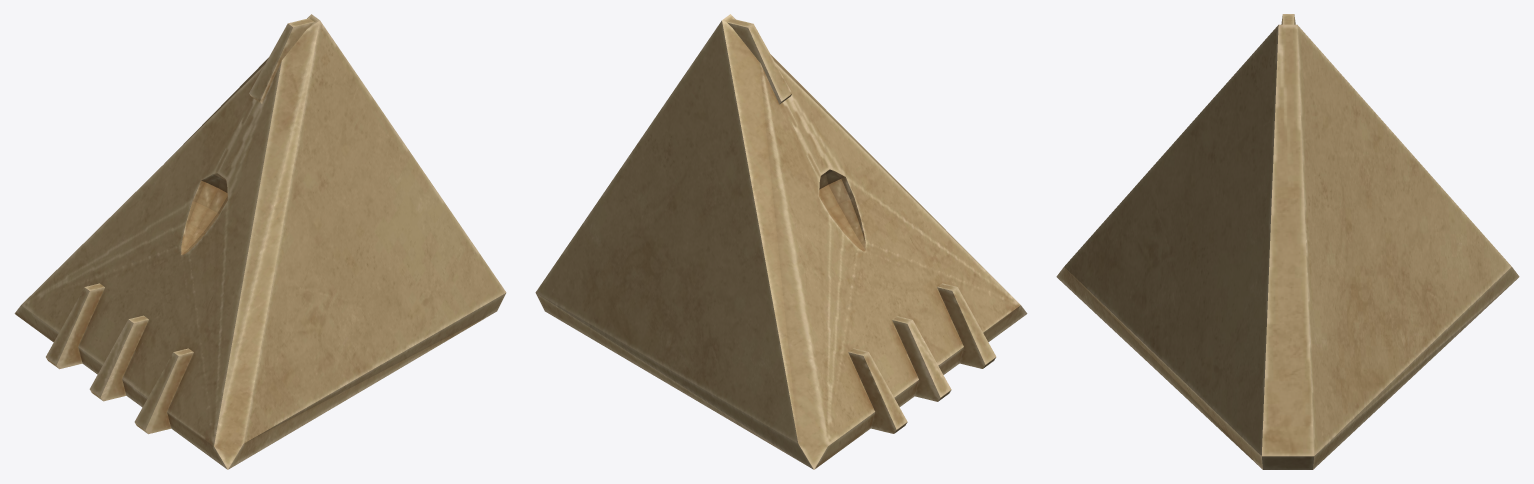
File: Yellow gem ruin.FBX
The picture shows the model from 3 angles, left to right: view 1: azimuth 30°, elevation 25°; view 2: azimuth 150°, elevation 25°; view 3: azimuth 270°, elevation 25°; orthographic projection. The views are drawn at different scales.
Visible parts, largest first — view 1: Pyramid yellow; view 2: Pyramid yellow; view 3: Pyramid yellow.
Part boxes in pixels (bbox=[...]): Pyramid yellow: bbox=[14, 14, 506, 469]; Pyramid yellow: bbox=[535, 14, 1027, 469]; Pyramid yellow: bbox=[1056, 14, 1519, 469].
Bounding box in the file's own units: 1582 × 1239 × 1465.
Materials: 1 (1 with a texture image).
